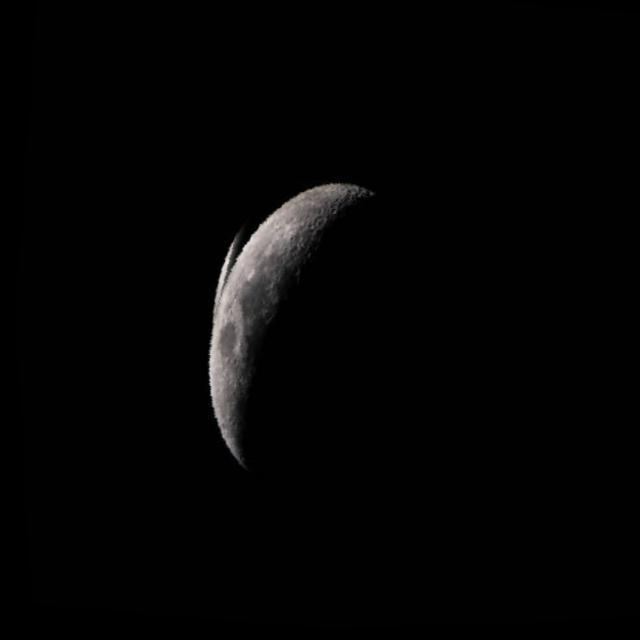moon: (180, 140, 472, 507)
